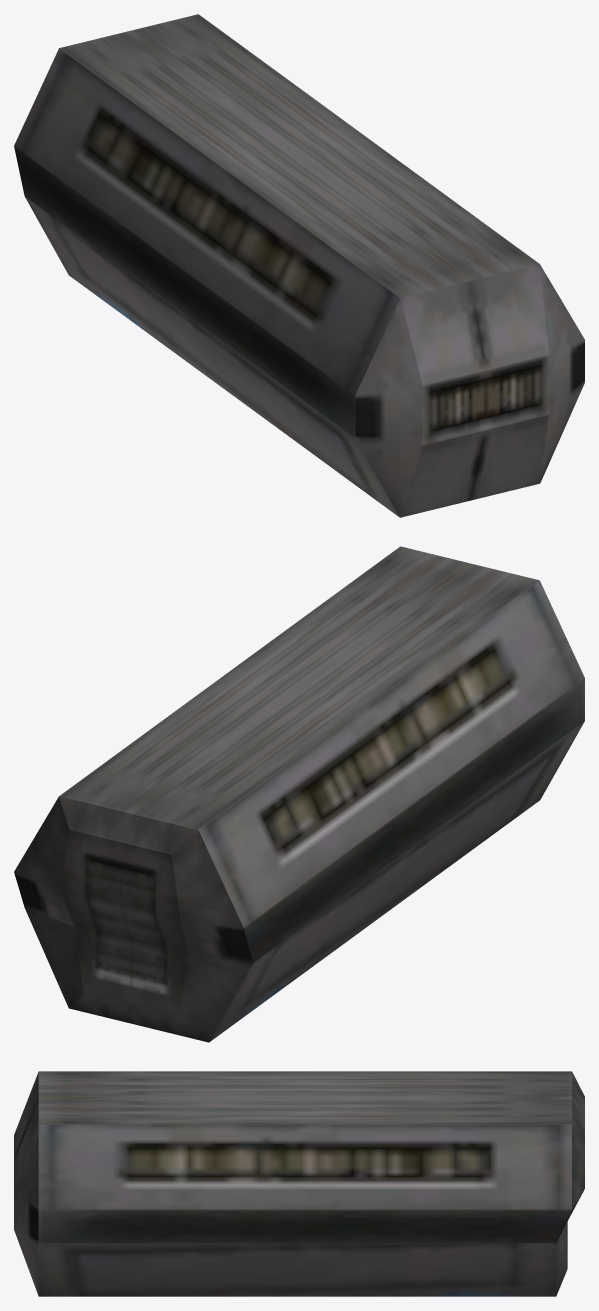
The model's file is cargo_debris_crate_s01_l3.fbx.
3 renders of one model, top to bottom at view 1: azimuth 30°, elevation 25°; view 2: azimuth 150°, elevation 25°; view 3: azimuth 270°, elevation 25°, orthographic. The views are drawn at different scales.
Parts seen in each view (by area): view 1: mesh_node; view 2: mesh_node; view 3: mesh_node.
Boxes of the visible parts, bbox=[...] form: mesh_node: bbox=[14, 14, 584, 517]; mesh_node: bbox=[14, 546, 584, 1042]; mesh_node: bbox=[14, 1071, 584, 1296].
Bounding box in the file's own units: 7.21 × 6.59 × 19.86.
